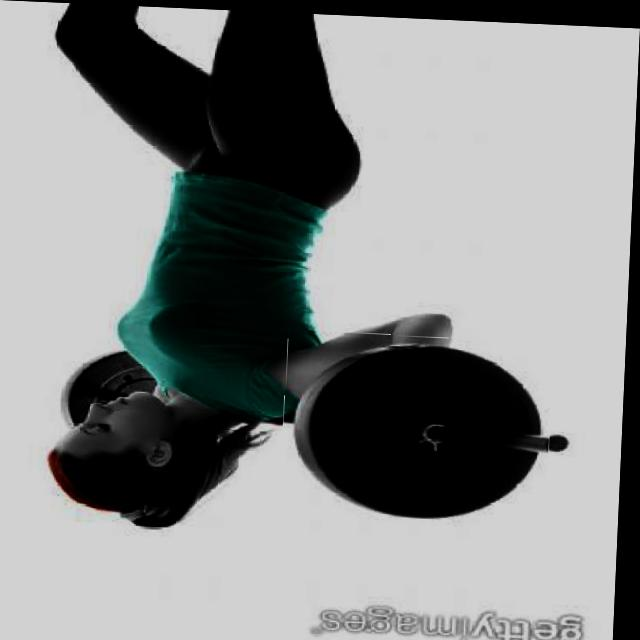barbell: (284, 328, 558, 527)
